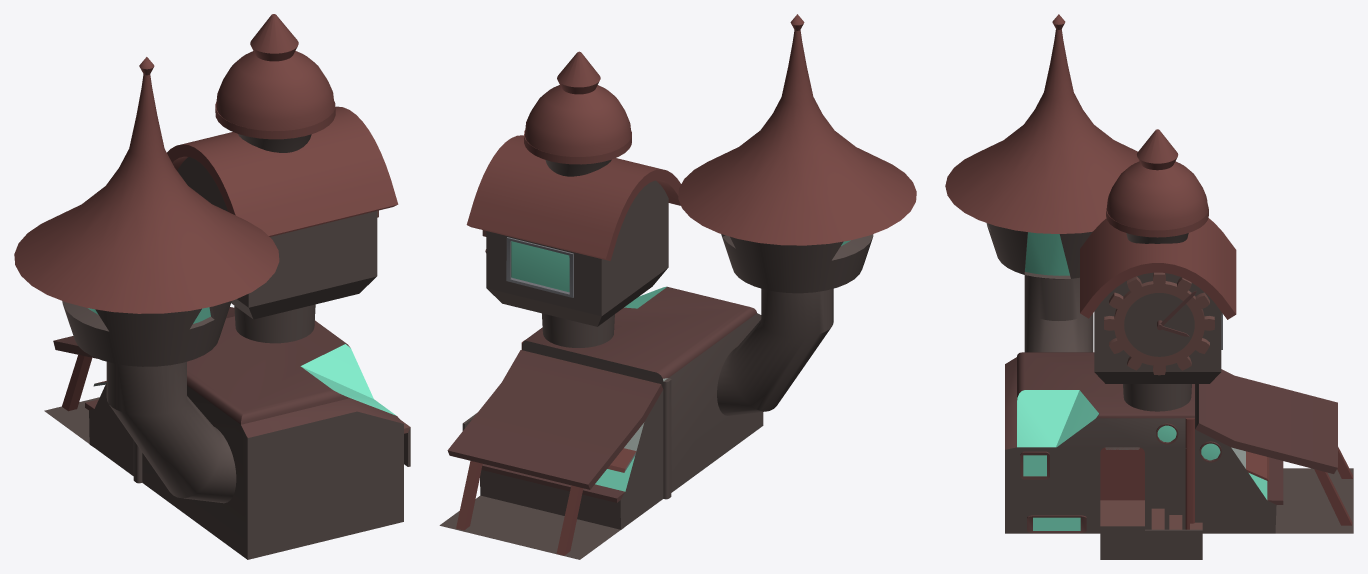
Rendered from Building14.fbx.
The picture shows the model from 3 angles, left to right: view 1: azimuth 30°, elevation 25°; view 2: azimuth 150°, elevation 25°; view 3: azimuth 270°, elevation 25°; orthographic projection. The views are drawn at different scales.
Parts seen in each view (by area): view 1: house 2; view 2: house 2; view 3: house 2.
Part boxes in pixels (bbox=[...]): house 2: bbox=[14, 14, 410, 559]; house 2: bbox=[439, 14, 916, 559]; house 2: bbox=[945, 14, 1353, 559].
Size of the model in its own units: 1588 by 1874 by 1629.
Materials: 2 (1 with a texture image).
